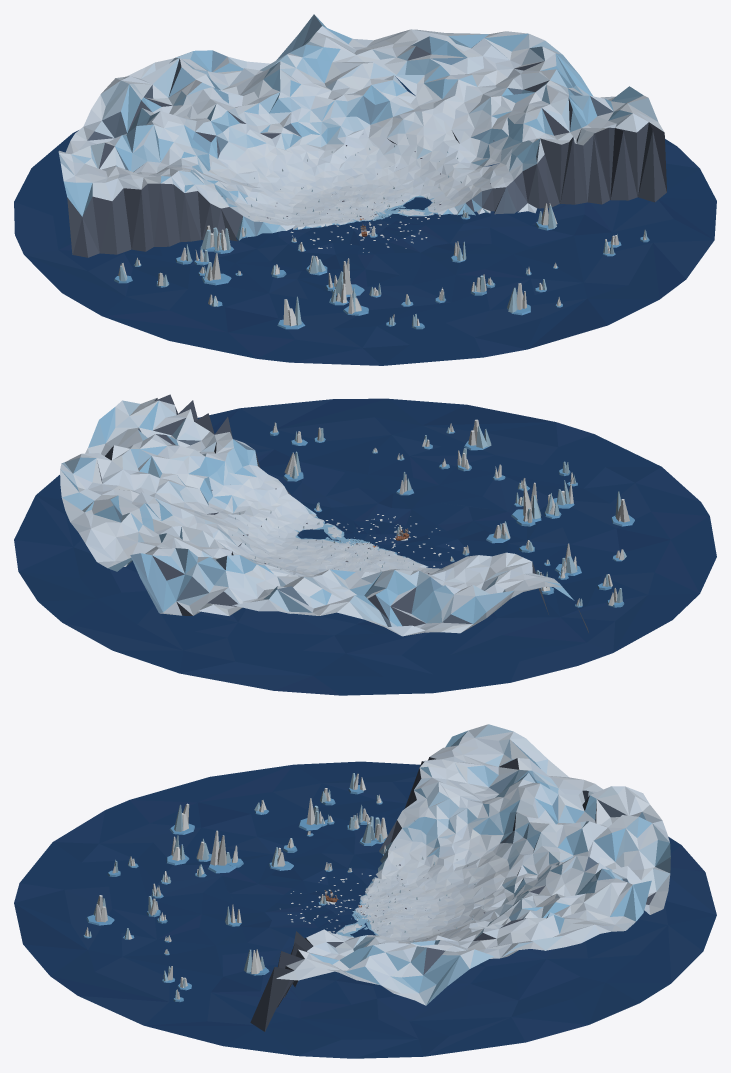
File: world_arctic_lite.glb
3 views of the same model, one above another, from view 1: azimuth 30°, elevation 25°; view 2: azimuth 150°, elevation 25°; view 3: azimuth 270°, elevation 25° (orthographic).
Parts seen in each view (by area): view 1: Sector7, Sector3, Sector1, Sector5, Sector4, Sector2, Sector0, Sector6; view 2: Sector5, Sector6, Sector1, Sector7, Sector4, Sector2, Sector0, Sector3; view 3: Sector5, Sector4, Sector1, Sector3, Sector6, Sector2, Sector7, Sector0.
Part boxes in pixels (<box>): Sector7: <box>14,124,365,296</box>; Sector3: <box>366,86,716,253</box>; Sector1: <box>257,216,541,365</box>; Sector5: <box>211,14,447,216</box>; Sector4: <box>366,31,676,216</box>; Sector2: <box>366,216,714,349</box>; Sector0: <box>62,216,364,358</box>; Sector6: <box>31,50,364,216</box>; Sector5: <box>18,505,364,673</box>; Sector6: <box>180,547,452,695</box>; Sector1: <box>366,422,709,546</box>; Sector7: <box>366,547,672,693</box>; Sector4: <box>14,420,364,578</box>; Sector2: <box>240,398,554,546</box>; Sector0: <box>367,491,716,619</box>; Sector3: <box>99,394,365,546</box>; Sector5: <box>366,855,716,1024</box>; Sector4: <box>299,910,588,1058</box>; Sector1: <box>14,800,364,924</box>; Sector3: <box>144,910,418,1058</box>; Sector6: <box>366,773,716,914</box>; Sector2: <box>14,895,364,1025</box>; Sector7: <box>322,724,583,909</box>; Sector0: <box>130,761,375,909</box>.
Bounding box in the file's own units: 1520 × 180 × 1519.
